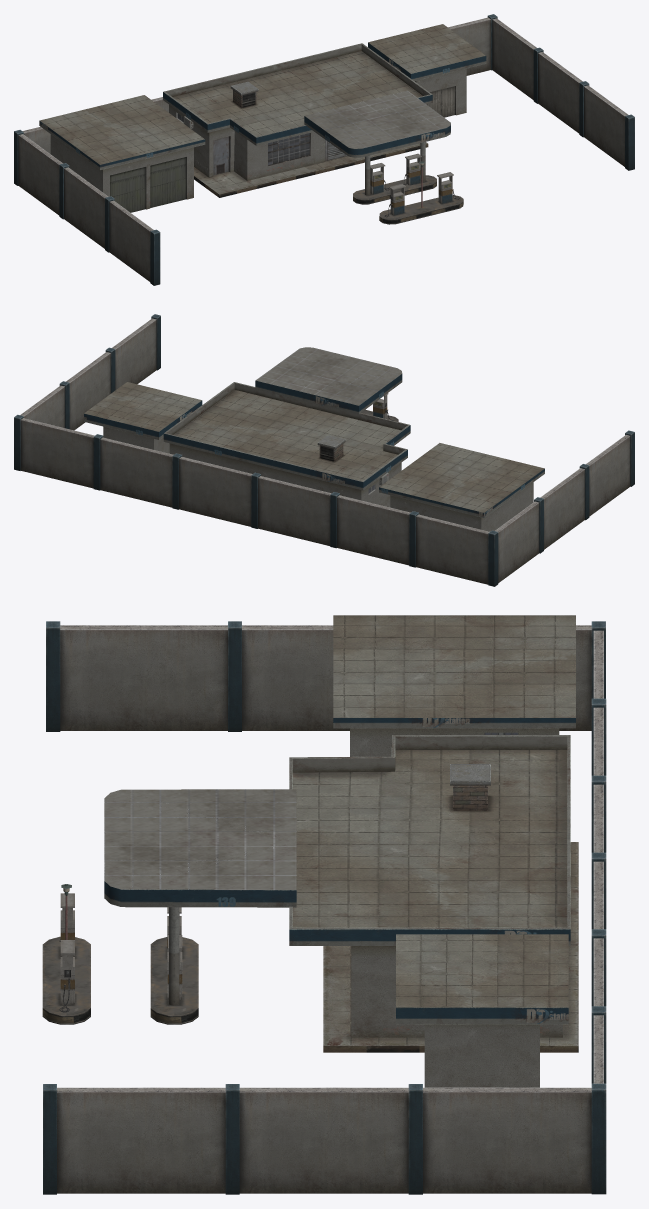
Rendered from gas_staion.FBX.
The picture shows the model from 3 angles, top to bottom: view 1: azimuth 30°, elevation 25°; view 2: azimuth 150°, elevation 25°; view 3: azimuth 270°, elevation 25°; orthographic projection. The views are drawn at different scales.
Visible parts, largest first — view 1: Object001, Object008, wall_04, wall_01, Object014, Object002, Object012, wall_03, Object015, wall_02, fuel4, fuel3 (+2 smaller); view 2: Object001, wall_02, wall_03, Object008, wall_01, wall_04, Object014, Object002; view 3: Object001, wall_04, wall_01, Object008, Object002, Object014, wall_03, wall_02, Object015, Object012, Object017, fuel4.
Boxes of the visible parts, left/top/right/bottom form: Object001: left=163, top=43, right=432, bottom=197; Object008: left=39, top=95, right=205, bottom=212; wall_04: left=487, top=14, right=634, bottom=170; wall_01: left=18, top=134, right=160, bottom=285; Object014: left=304, top=90, right=450, bottom=157; Object002: left=368, top=24, right=486, bottom=117; Object012: left=379, top=195, right=463, bottom=224; wall_03: left=448, top=17, right=490, bottom=75; Object015: left=353, top=175, right=436, bottom=204; wall_02: left=14, top=97, right=168, bottom=185; fuel4: left=437, top=172, right=460, bottom=203; fuel3: left=384, top=183, right=405, bottom=217; Object001: left=163, top=382, right=410, bottom=507; wall_02: left=258, top=476, right=498, bottom=586; wall_03: left=20, top=418, right=260, bottom=528; Object008: left=379, top=443, right=544, bottom=531; wall_01: left=495, top=430, right=634, bottom=582; wall_04: left=14, top=314, right=160, bottom=470; Object014: left=255, top=347, right=402, bottom=414; Object002: left=84, top=382, right=202, bottom=453; Object001: left=289, top=735, right=578, bottom=1052; wall_04: left=43, top=1083, right=606, bottom=1194; wall_01: left=46, top=621, right=591, bottom=731; Object008: left=333, top=615, right=575, bottom=756; Object002: left=396, top=934, right=568, bottom=1087; Object014: left=104, top=789, right=296, bottom=907; wall_03: left=591, top=852, right=606, bottom=1083; wall_02: left=591, top=621, right=606, bottom=852; Object015: left=150, top=937, right=198, bottom=1024; Object012: left=42, top=936, right=90, bottom=1024; Object017: left=169, top=907, right=179, bottom=1005; fuel4: left=59, top=940, right=74, bottom=1012.
Size of the model in its own units: 2858 by 1452 by 414.
